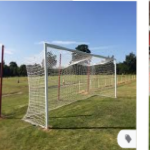goals: (19, 41, 119, 130)
